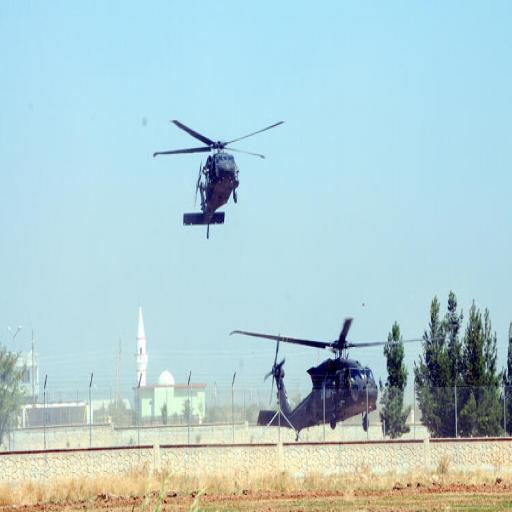helicopter: (224, 285, 445, 441), (146, 103, 293, 239)
